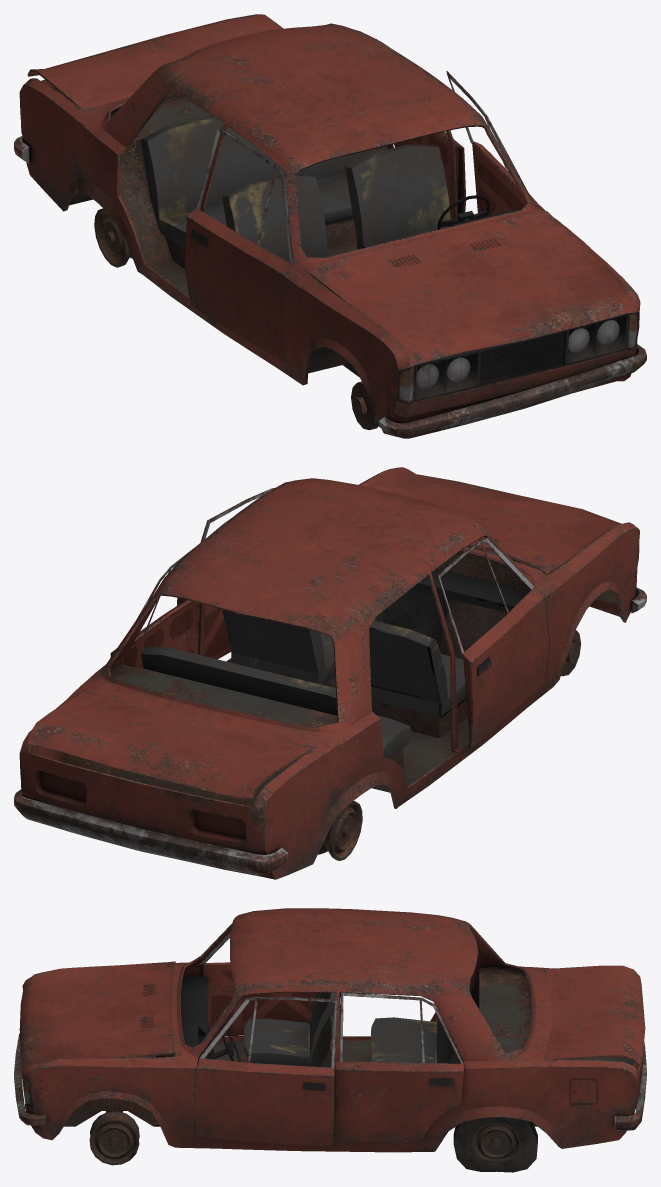
The picture shows the model from 3 angles, top to bottom: view 1: azimuth 30°, elevation 25°; view 2: azimuth 150°, elevation 25°; view 3: azimuth 270°, elevation 25°; orthographic projection. The views are drawn at different scales.
Visible parts, largest first — view 1: car125p_body-material, car125p_chassis-material; view 2: car125p_body-material, car125p_chassis-material; view 3: car125p_body-material, car125p_chassis-material.
Part boxes in pixels (x1,y1,x2,y2): car125p_body-material: [14, 14, 646, 438]; car125p_chassis-material: [69, 92, 627, 430]; car125p_body-material: [14, 467, 646, 879]; car125p_chassis-material: [66, 546, 617, 860]; car125p_body-material: [14, 908, 646, 1152]; car125p_chassis-material: [64, 967, 634, 1172].
Size of the model in its own units: 78.95 by 58.53 by 180.
2 materials, 2 textured.
